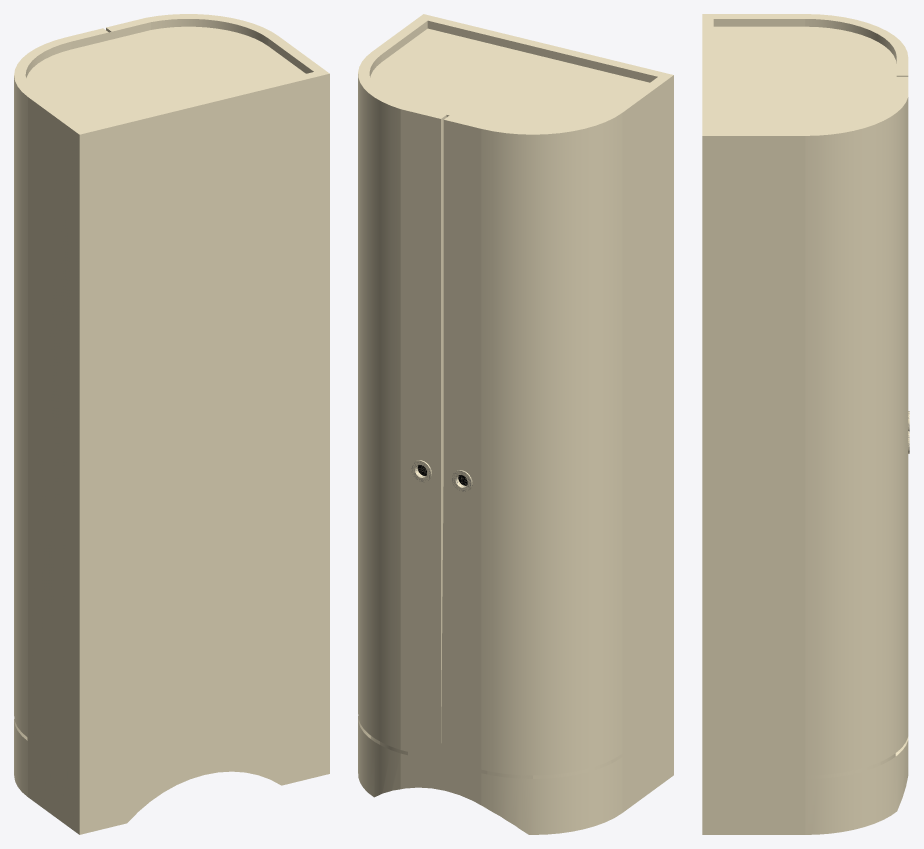
3 renders of one model, left to right at view 1: azimuth 30°, elevation 25°; view 2: azimuth 150°, elevation 25°; view 3: azimuth 270°, elevation 25°, orthographic.
Parts seen in each view (by area): view 1: mesh5_mesh5-geometry; view 2: mesh5_mesh5-geometry; view 3: mesh5_mesh5-geometry.
Part boxes in pixels (<box>): mesh5_mesh5-geometry: <box>14,14,329,834</box>; mesh5_mesh5-geometry: <box>358,14,673,834</box>; mesh5_mesh5-geometry: <box>702,14,908,834</box>.
Bounding box in the file's own units: 0.3398 × 0.9082 × 0.2445.
